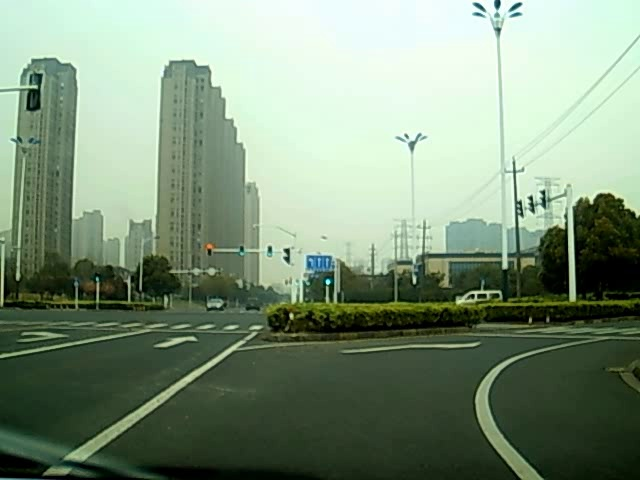Traffic_Light_go: (238, 244, 247, 260), (322, 275, 332, 287), (266, 245, 274, 258)
Traffic_Light_stop: (205, 243, 212, 258)
